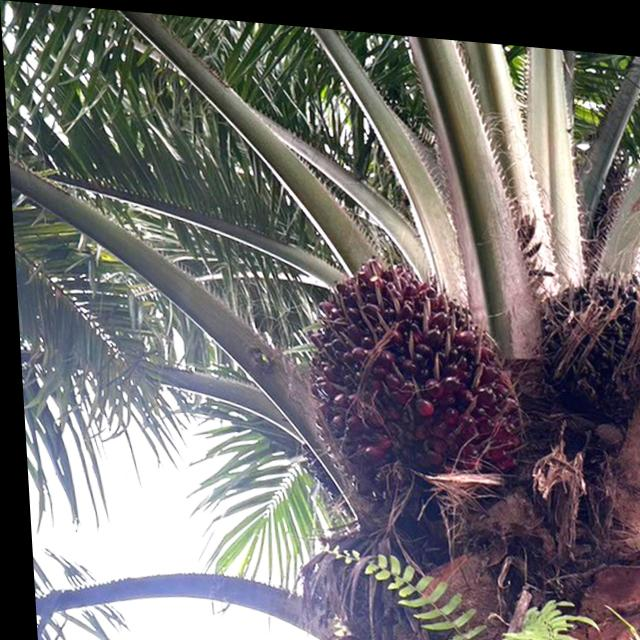ripe: (292, 241, 529, 489), (527, 255, 640, 406)
